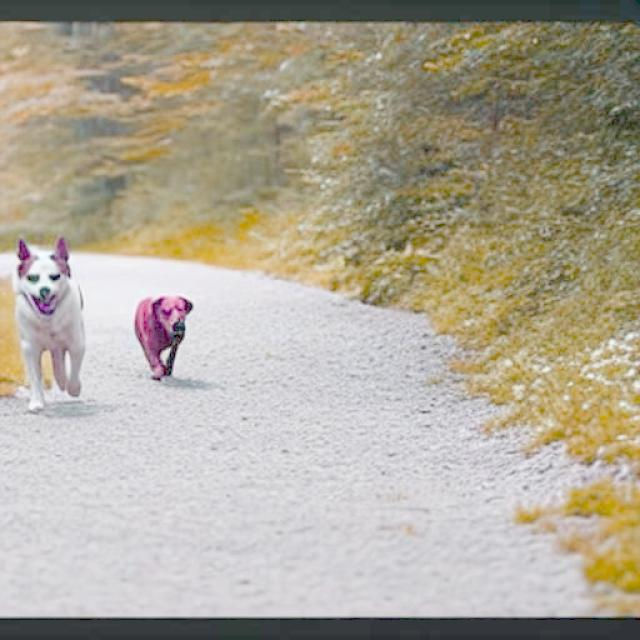Dog: (15, 237, 84, 413), (134, 295, 194, 380)
